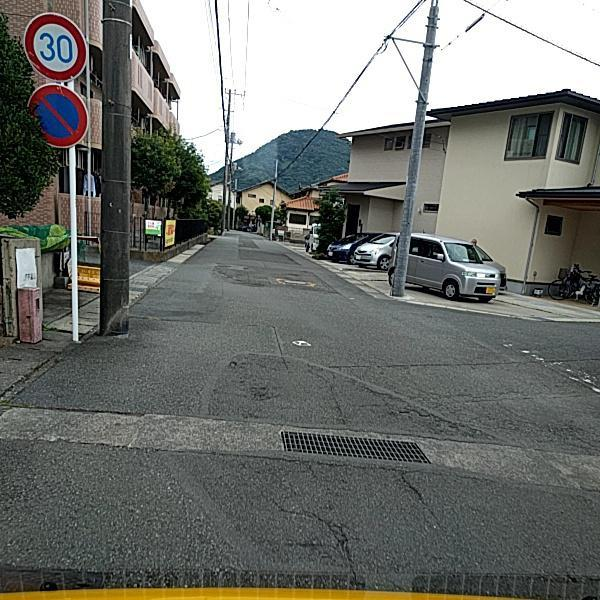D00: (399, 471, 442, 528)
D20: (269, 499, 361, 580)
